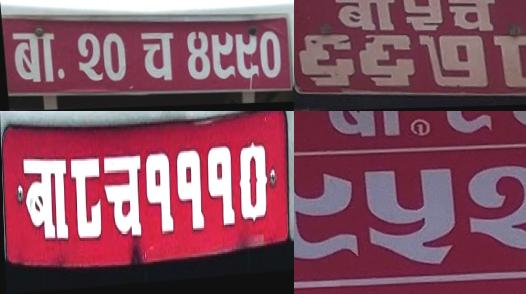0: (236, 137, 268, 233), (255, 27, 286, 84), (99, 30, 129, 84)
1: (142, 143, 177, 244), (175, 146, 209, 247), (206, 139, 238, 240)
2: (455, 159, 526, 259), (72, 29, 104, 87)
4: (182, 29, 212, 84)
5: (355, 163, 458, 270), (399, 0, 444, 34)
6: (356, 33, 417, 90), (294, 33, 356, 89)
7: (416, 34, 492, 93)
8: (67, 149, 103, 248), (490, 32, 526, 93)
9: (294, 168, 359, 267), (435, 111, 495, 139), (207, 29, 237, 83), (232, 28, 260, 83)
ba: (19, 150, 70, 249), (313, 111, 409, 144), (8, 26, 58, 86), (332, 0, 397, 33)
cha: (101, 147, 145, 252), (137, 29, 178, 86), (444, 0, 502, 34)
